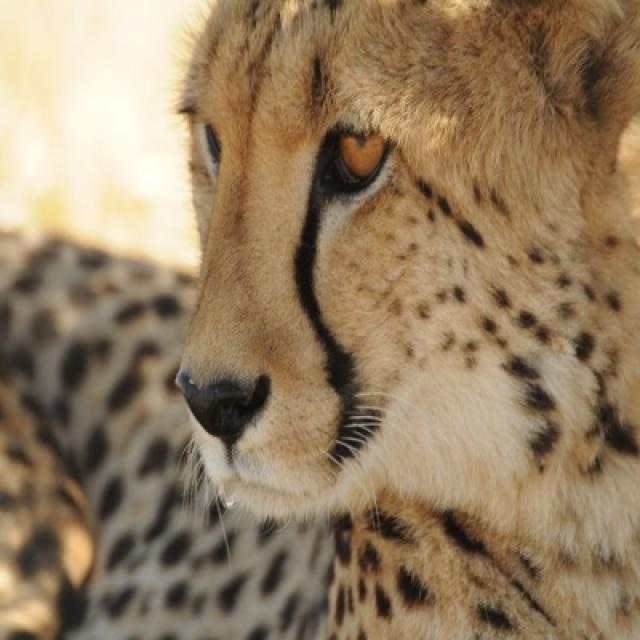Cheetah: (1, 0, 636, 638)
